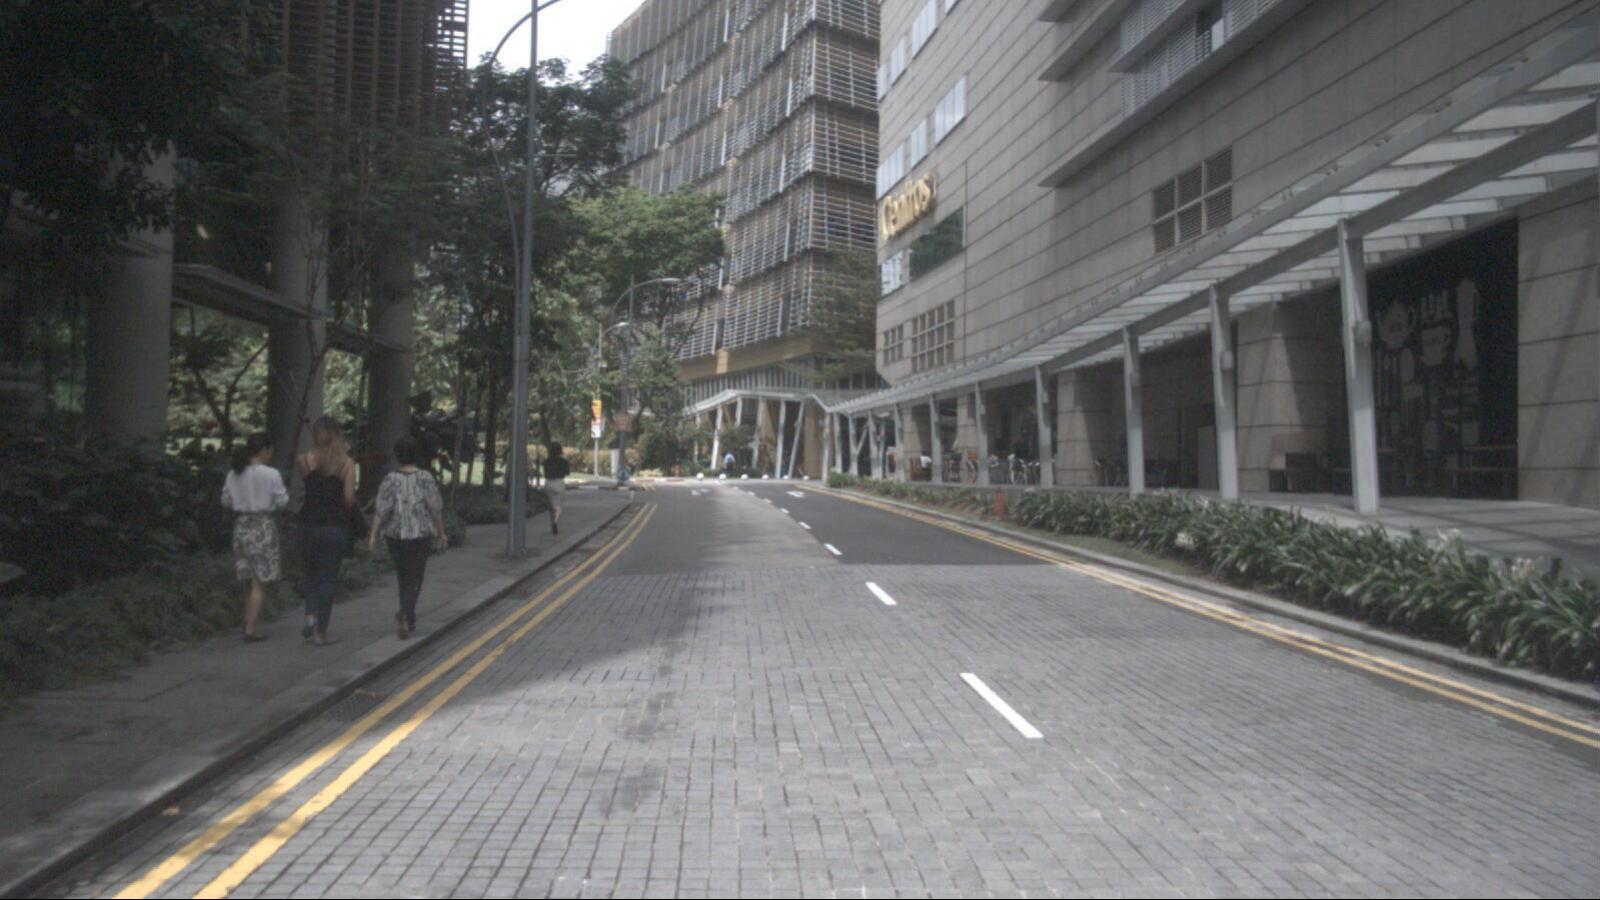human.pedestrian.adult-pedestrian.moving: (294, 416, 372, 648), (367, 434, 449, 641), (217, 431, 291, 644), (543, 441, 570, 536), (723, 450, 736, 480)
human.pedestrian.adult-pedestrian.sitting_lying_down: (918, 451, 933, 482)
